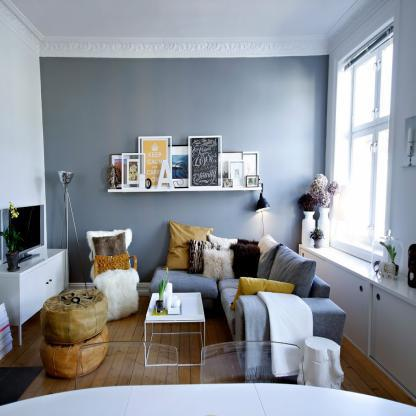bantal: (89, 230, 132, 272), (168, 222, 202, 270), (204, 249, 234, 279)
sova: (155, 237, 347, 359)
tanaman: (143, 289, 209, 371)
tv: (9, 204, 46, 253)
